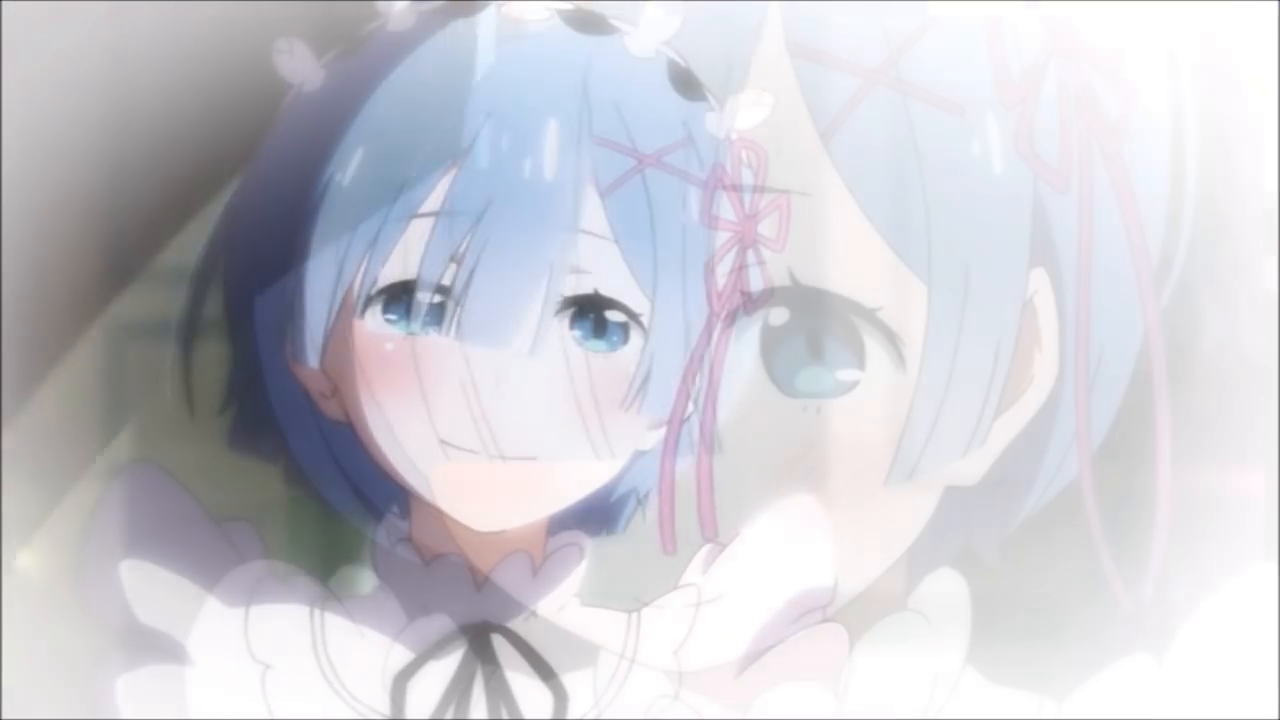REM: (208, 1, 775, 549)
